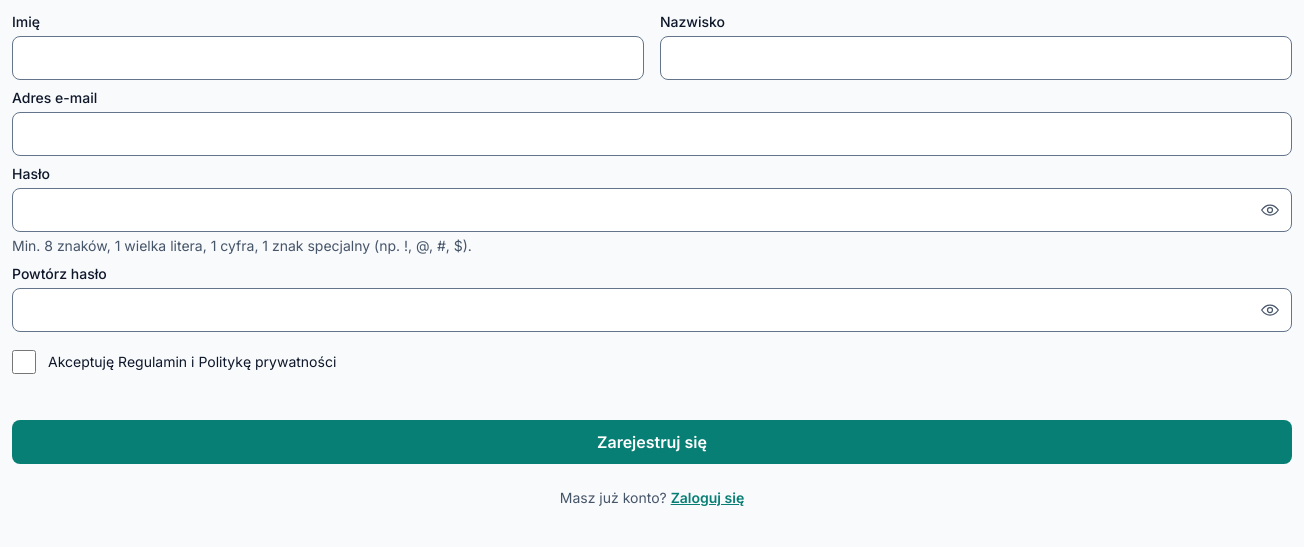
Test: RegisterForm › maps fieldErrors of a 400 onto the fields
Type "Jan" into the field labelled "Imię". click: (328,58)
box: [12, 36, 644, 80]
Type "Kowalski" into the field labelled "Nazwisko". click: (976,58)
box: [660, 36, 1292, 80]
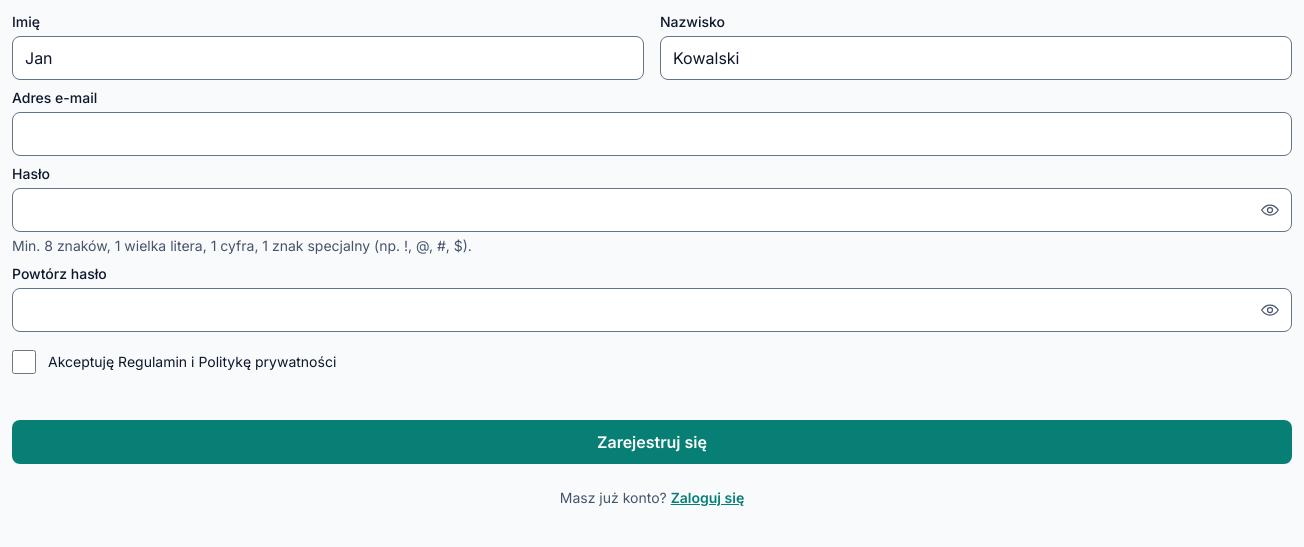
Type "jan@example.com" into the field labelled "Adres e-mail". click: (652,134)
box: [12, 112, 1292, 156]
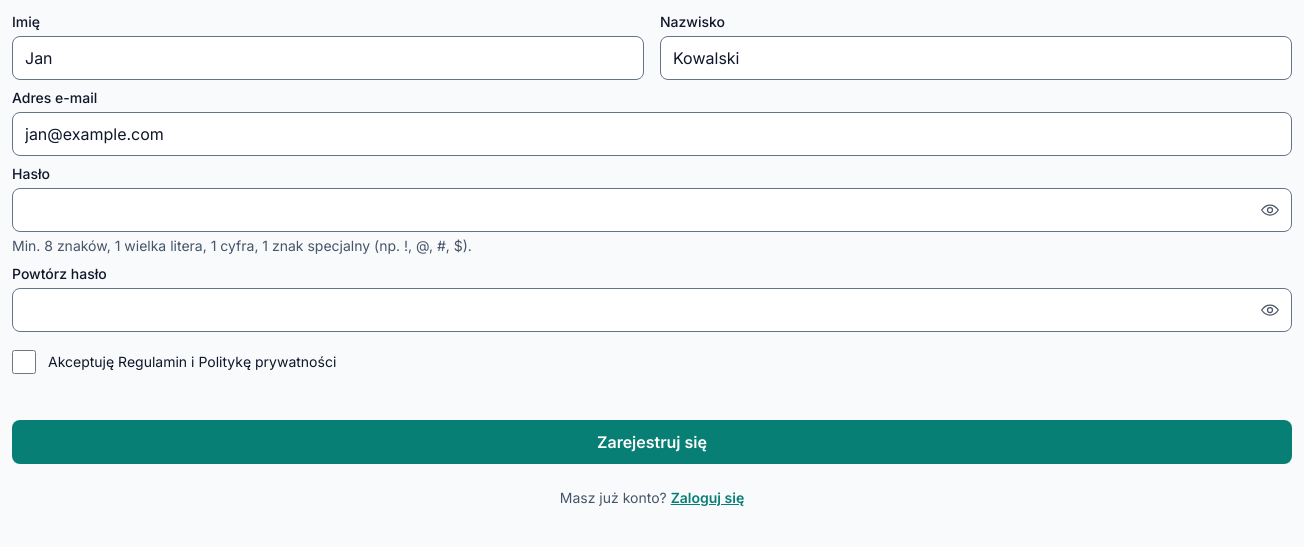
Type "Haslo123!" into the password field labelled "Hasło". click: (652,210)
box: [12, 188, 1292, 232]
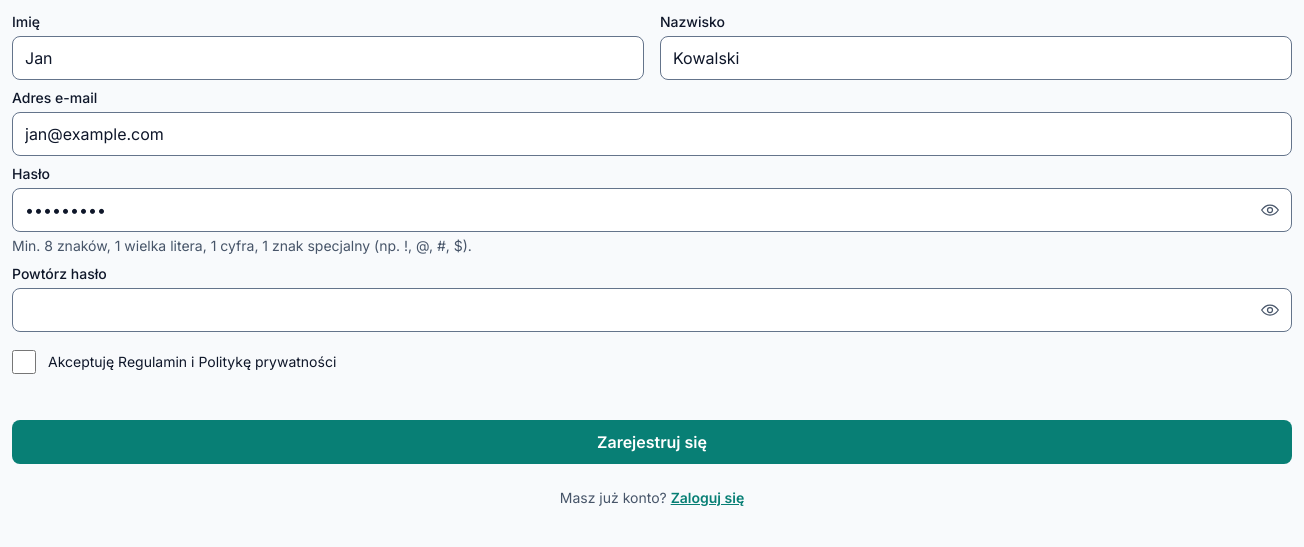
Type "Haslo123!" into the password field labelled "Powtórz hasło". click: (652,310)
box: [12, 288, 1292, 332]
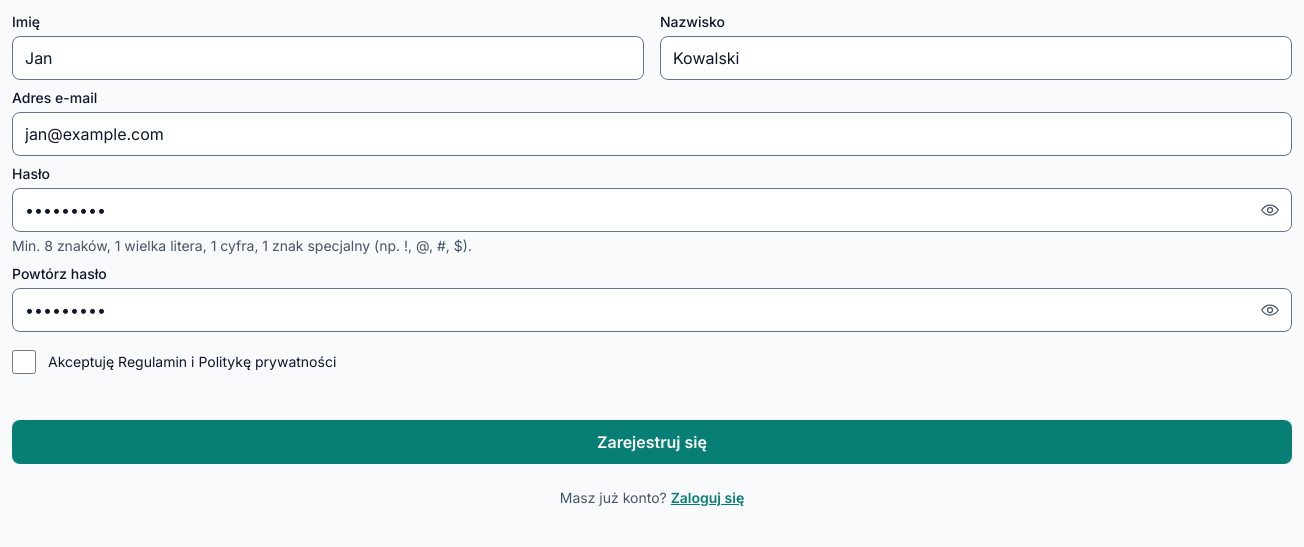
Click the checkbox labelled "Akceptuję Regulamin i Politykę prywatności". click: (24,362)
box: [12, 350, 36, 374]
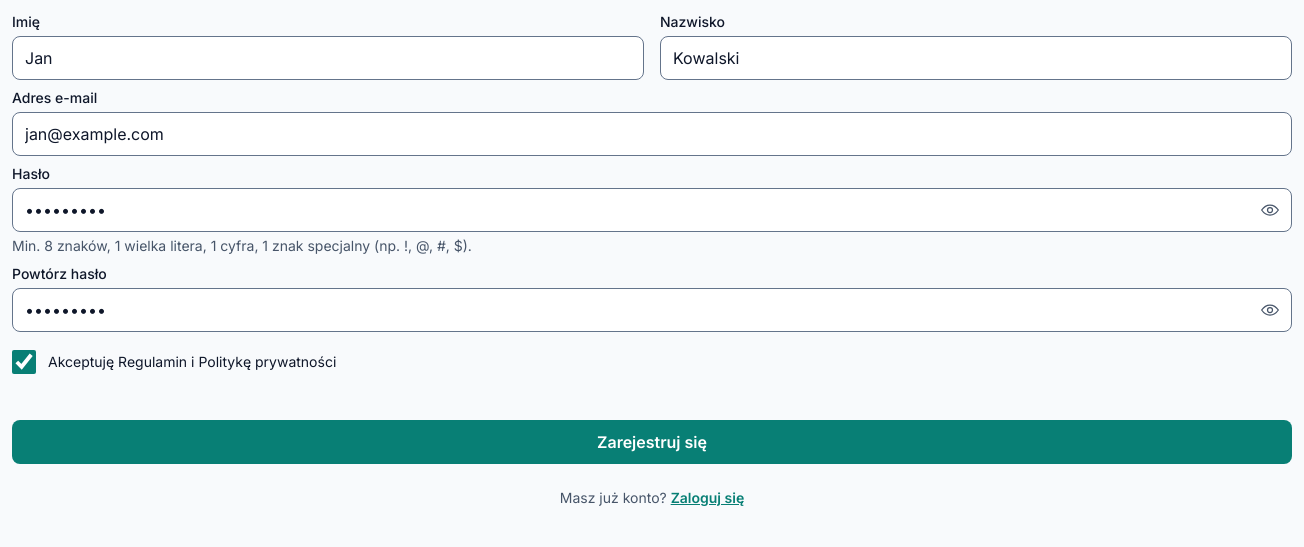
Click the button "Zarejestruj się". click: (652,442)
box: [12, 420, 1292, 464]
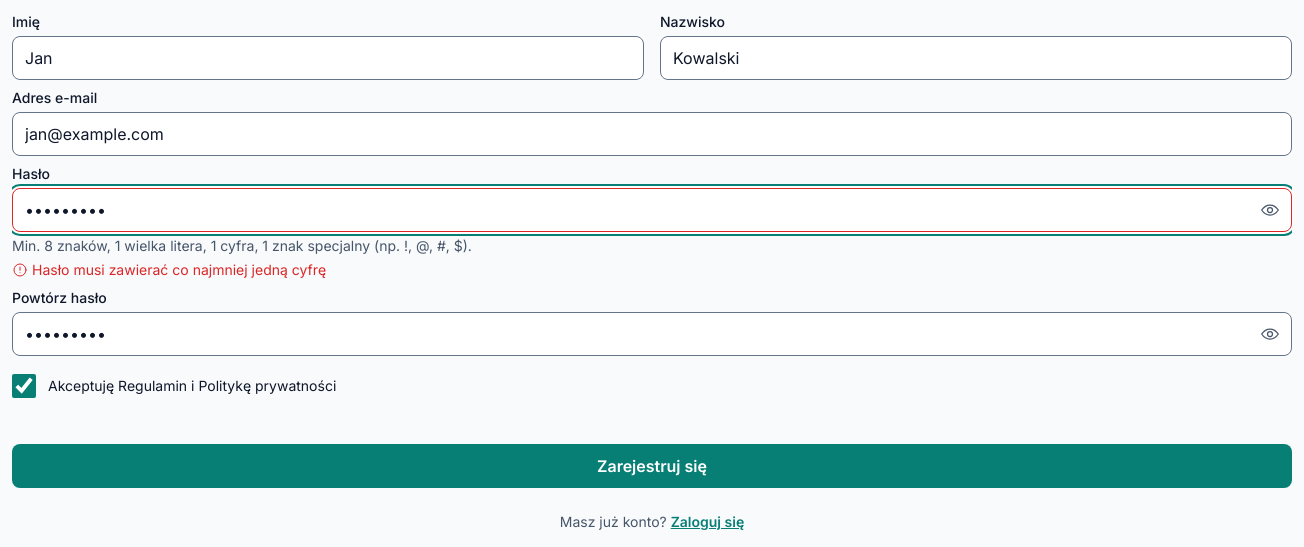
Check: the text "Hasło musi zawierać co najmniej jedną cyfrę" is shown, box [12, 261, 326, 278]
